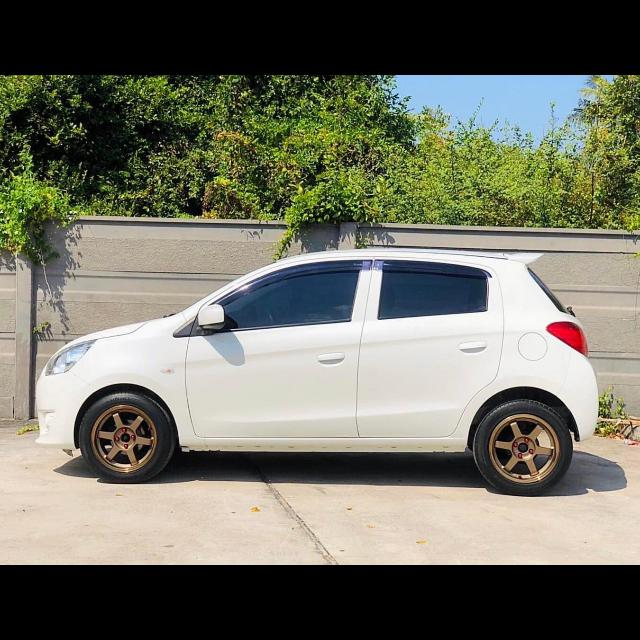cars: (31, 233, 609, 505)
